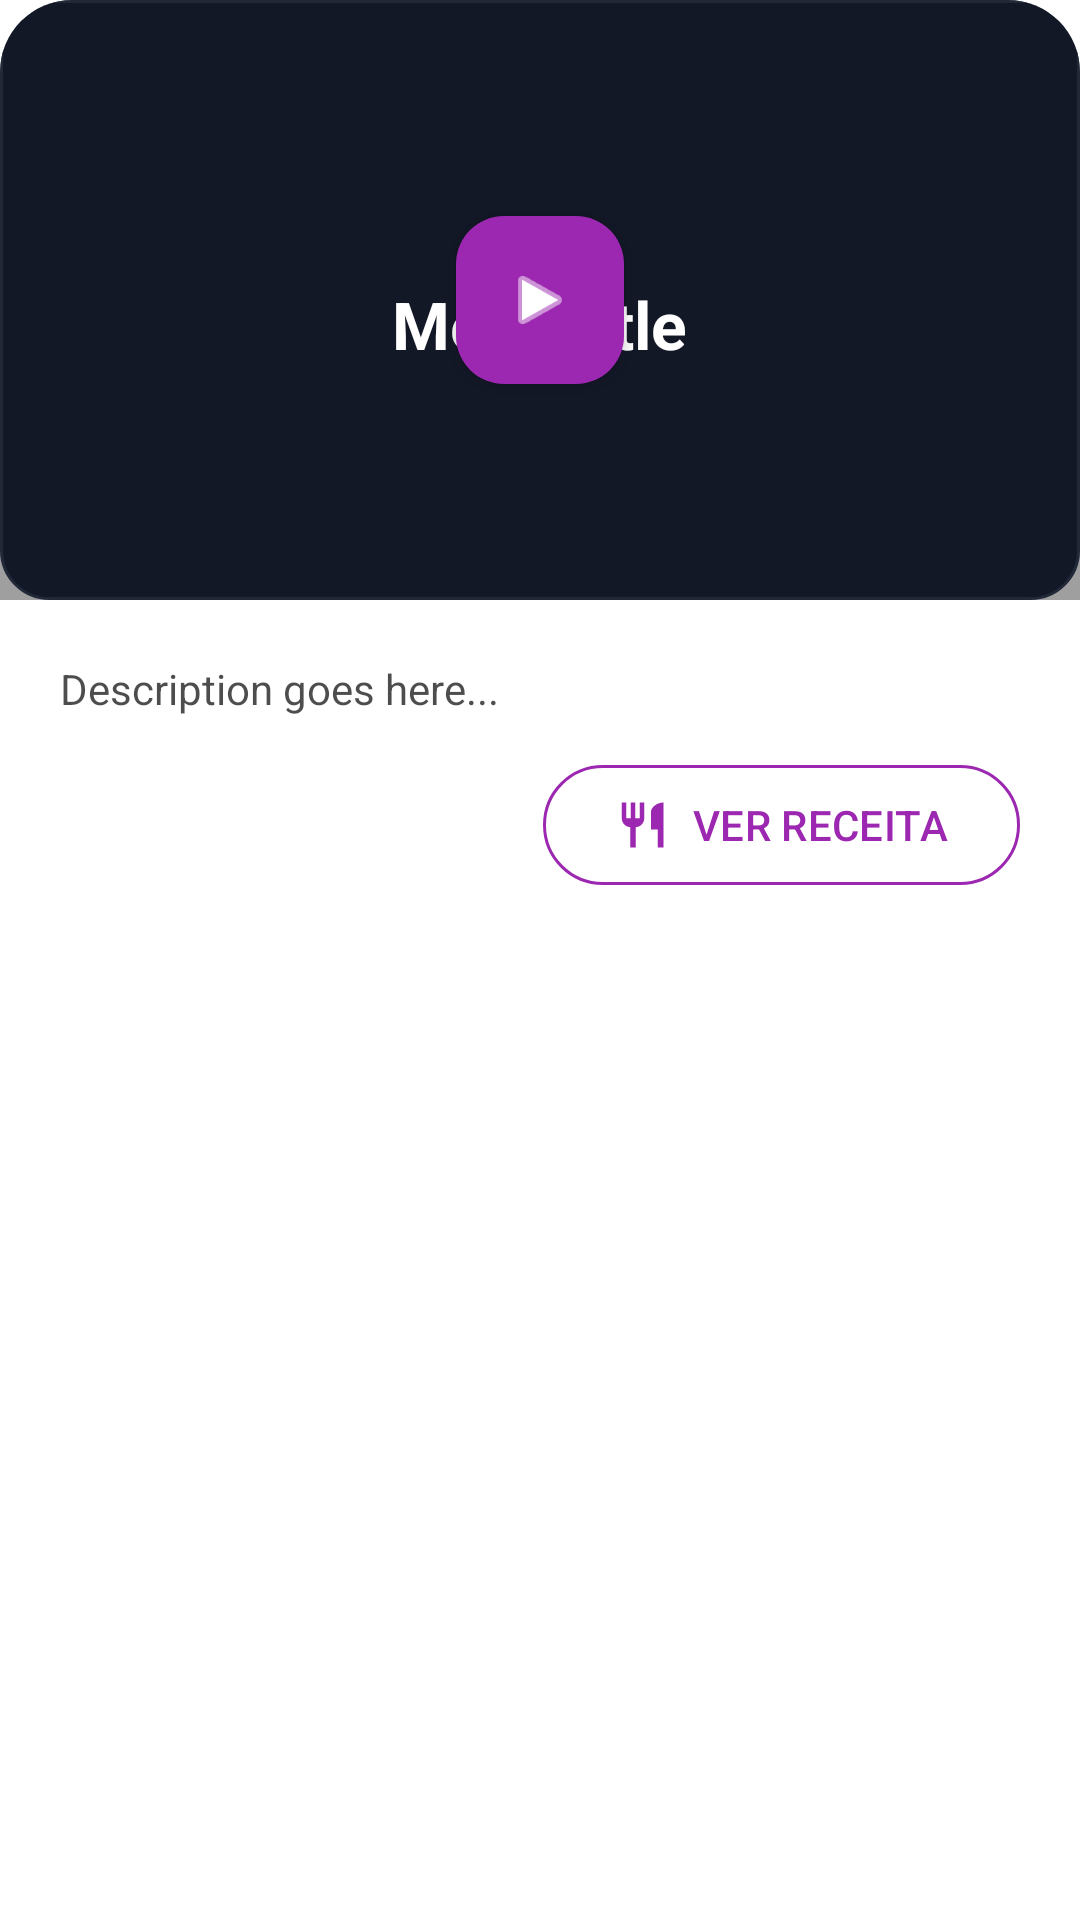

Named icons in this screenshot (1080 × 1920) and their centers, (x,y):
play: (540,300)
